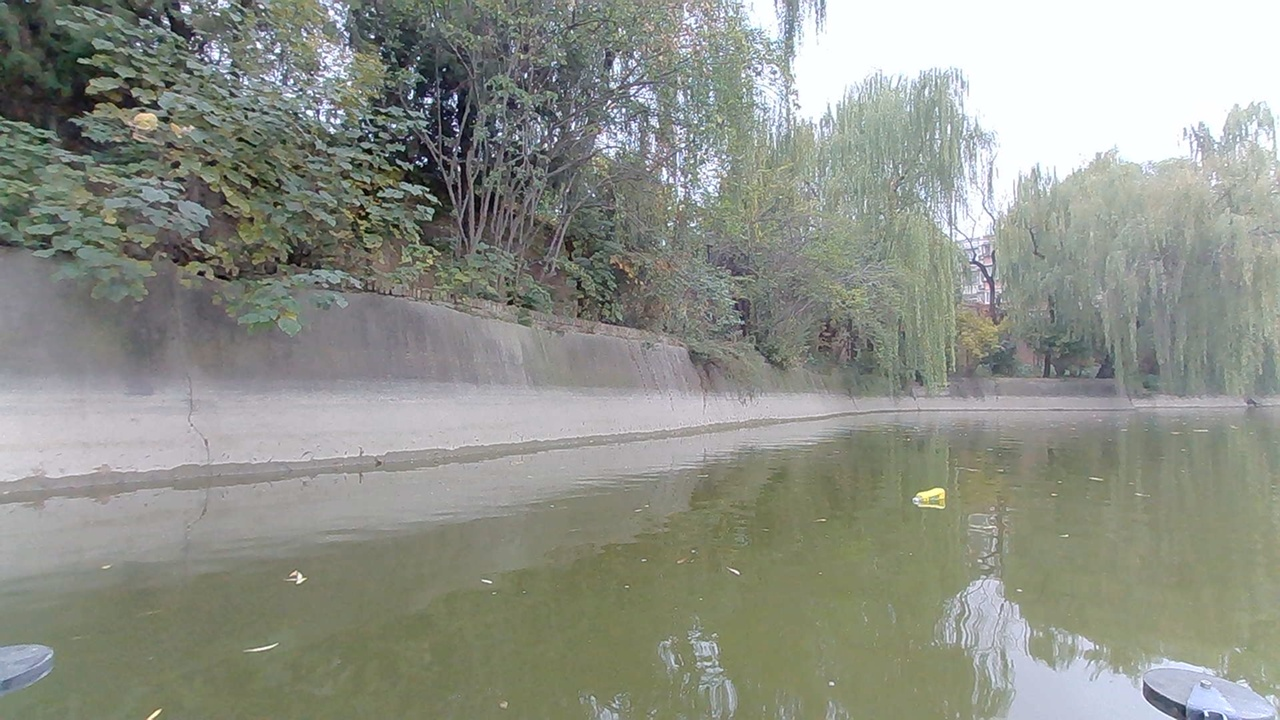bottle: (918, 486, 952, 509)
